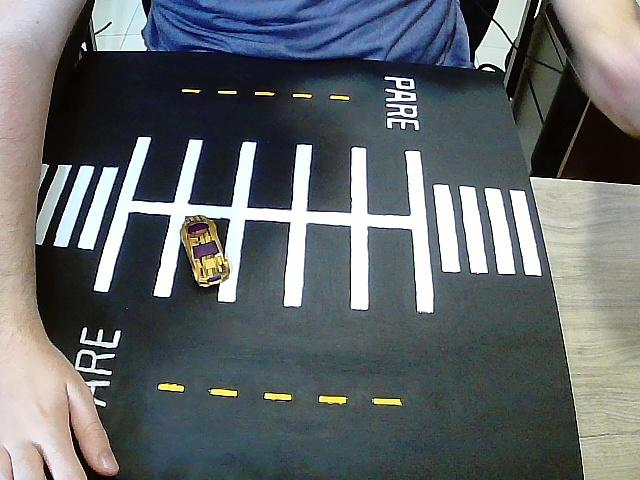Carro: (181, 215, 231, 289)
